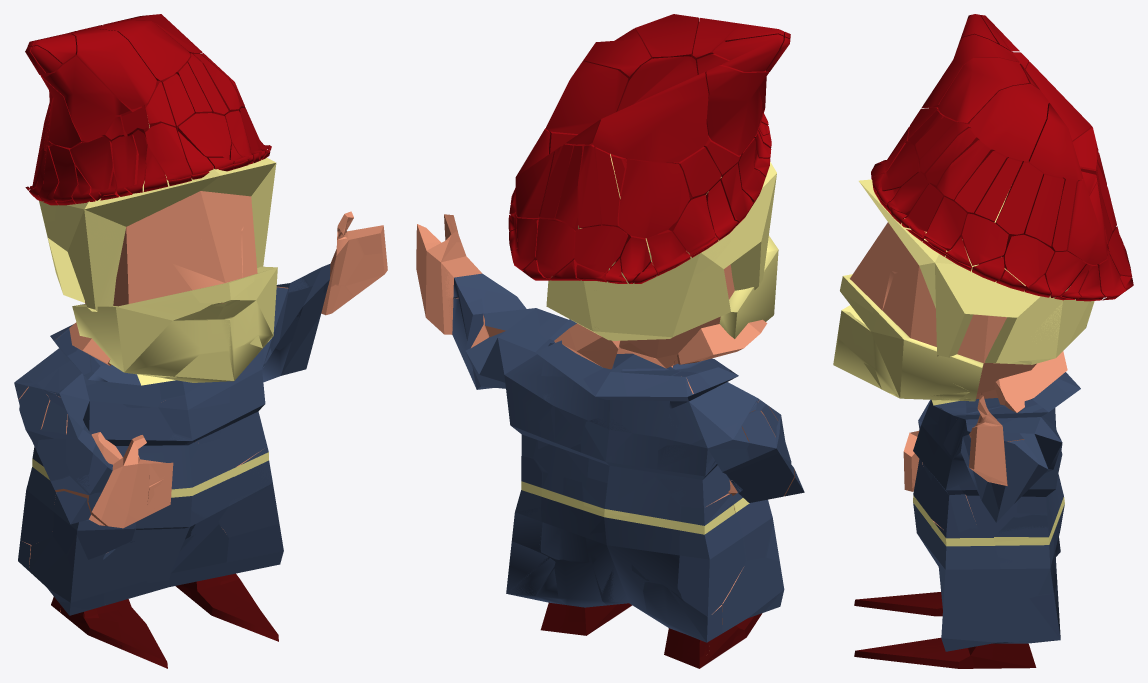
The model's file is gnome_2_broken.fbx.
The picture shows the model from 3 angles, left to right: view 1: azimuth 30°, elevation 25°; view 2: azimuth 150°, elevation 25°; view 3: azimuth 270°, elevation 25°; orthographic projection. The views are drawn at different scales.
Visible parts, largest first — view 1: man-monk-old_cell.264, man-monk-old_cell.158, man-monk-old_cell.207, man-monk-old_cell.259, hat_cell.204, hat_cell.242, hat_cell.245, man-monk-old_cell.228, man-monk-old_cell.234, man-monk-old_cell.240, man-monk-old_cell.251, hat_cell.266 (+36 smaller); view 2: man-monk-old_cell.264, man-monk-old_cell.259, man-monk-old_cell.207, hat_cell.241, man-monk-old_cell.234, hat_cell.218, hat_cell.267, hat_cell.210, man-monk-old_cell.272, man-monk-old_cell.158, man-monk-old_cell.240, man-monk-old_cell.236 (+42 smaller); view 3: man-monk-old_cell.264, man-monk-old_cell.158, man-monk-old_cell.207, man-monk-old_cell.259, hat_cell.254, hat_cell.245, hat_cell.210, man-monk-old_cell.205, hat_cell.188, man-monk-old_cell.242, hat_cell.190, hat_cell.238 (+34 smaller).
Boxes of the visible parts, x1,y1,x2,y2 form: man-monk-old_cell.264: [15, 191, 386, 668]; man-monk-old_cell.158: [72, 266, 277, 382]; man-monk-old_cell.207: [40, 126, 276, 365]; man-monk-old_cell.259: [43, 164, 276, 311]; hat_cell.204: [66, 28, 156, 109]; hat_cell.242: [41, 55, 129, 141]; hat_cell.245: [79, 20, 190, 80]; man-monk-old_cell.228: [218, 453, 279, 537]; man-monk-old_cell.234: [20, 446, 56, 543]; man-monk-old_cell.240: [29, 538, 104, 624]; man-monk-old_cell.251: [269, 286, 323, 351]; hat_cell.266: [70, 136, 116, 200]; man-monk-old_cell.264: [416, 214, 794, 667]; man-monk-old_cell.259: [546, 174, 776, 340]; man-monk-old_cell.207: [548, 162, 776, 364]; hat_cell.241: [592, 56, 708, 162]; man-monk-old_cell.234: [677, 493, 745, 616]; hat_cell.218: [696, 53, 768, 155]; hat_cell.267: [619, 159, 689, 238]; hat_cell.210: [545, 61, 628, 144]; man-monk-old_cell.272: [643, 582, 722, 657]; man-monk-old_cell.158: [719, 236, 778, 338]; man-monk-old_cell.240: [709, 559, 784, 659]; man-monk-old_cell.236: [540, 472, 589, 563]; man-monk-old_cell.264: [850, 222, 1080, 668]; man-monk-old_cell.158: [833, 274, 983, 400]; man-monk-old_cell.207: [860, 182, 1083, 362]; man-monk-old_cell.259: [859, 181, 1094, 364]; hat_cell.254: [969, 83, 1048, 161]; hat_cell.245: [938, 57, 1029, 123]; hat_cell.210: [1029, 103, 1098, 180]; man-monk-old_cell.205: [994, 509, 1053, 595]; hat_cell.188: [1068, 179, 1107, 264]; man-monk-old_cell.242: [994, 351, 1067, 412]; hat_cell.190: [995, 161, 1043, 240]; hat_cell.238: [1002, 234, 1054, 286].
Size of the model in its own units: 70 by 111 by 53.69.
